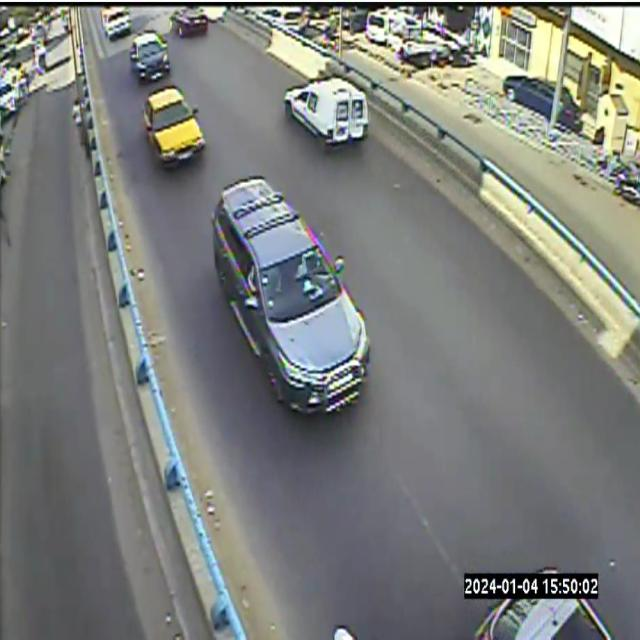car: (211, 175, 369, 412), (284, 77, 369, 144), (476, 599, 611, 639), (144, 86, 206, 165), (129, 31, 170, 81), (170, 6, 208, 37), (101, 6, 131, 40), (275, 44, 292, 61)
